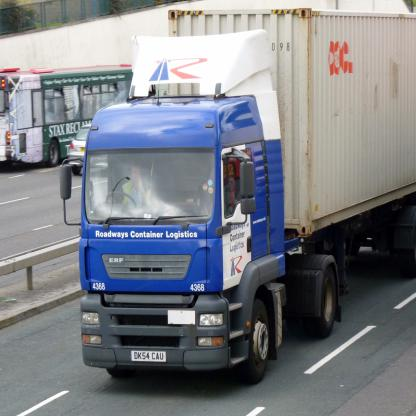Truck: (59, 3, 415, 385)
